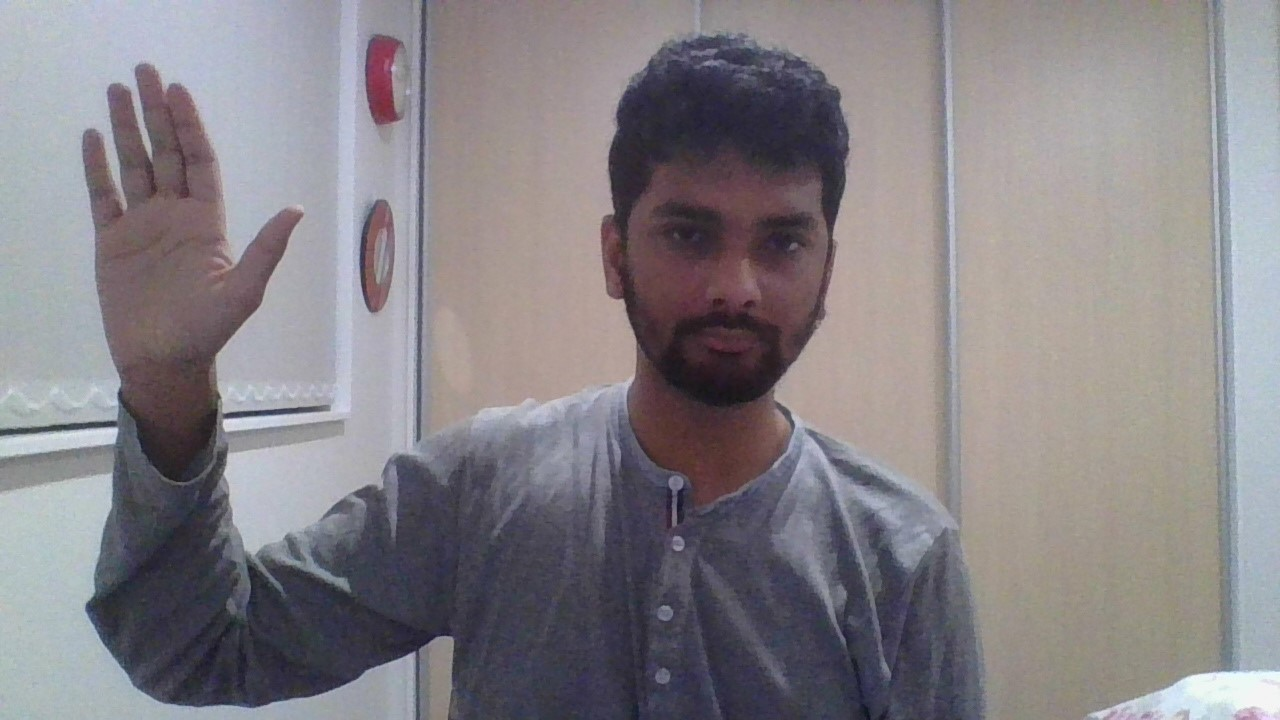hello: (81, 63, 304, 365)
